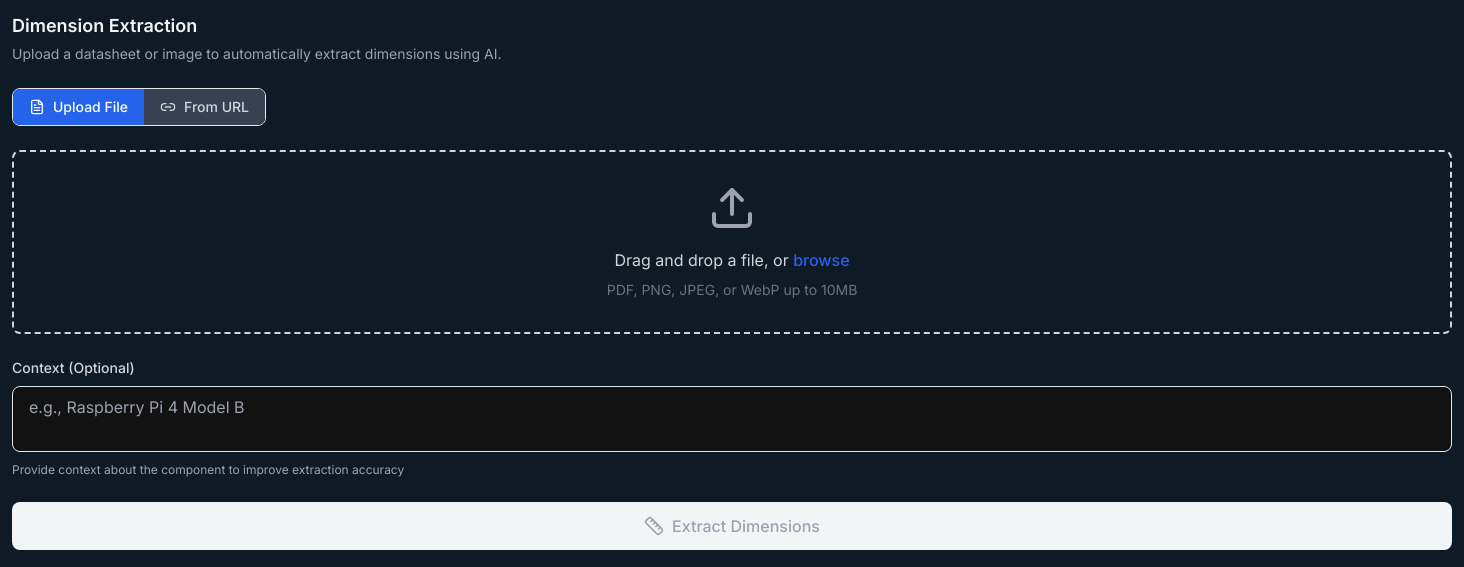
DimensionExtractor › Mode Toggle › switches to URL mode when clicked
The image size is (1464, 567).
Click the button "From URL".
click(204, 107)  # box 144,89 -> 265,125
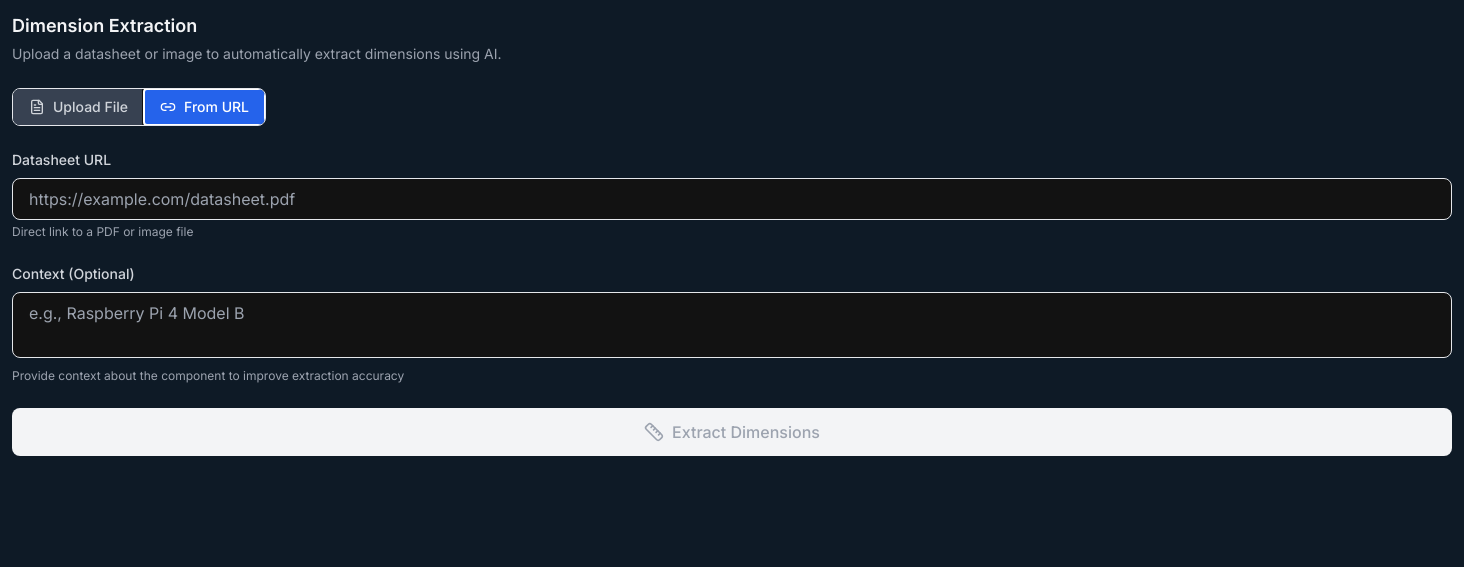
Check: the field with placeholder "https://example.com/datasheet.pdf" is shown, box 12,178 -> 1452,220
